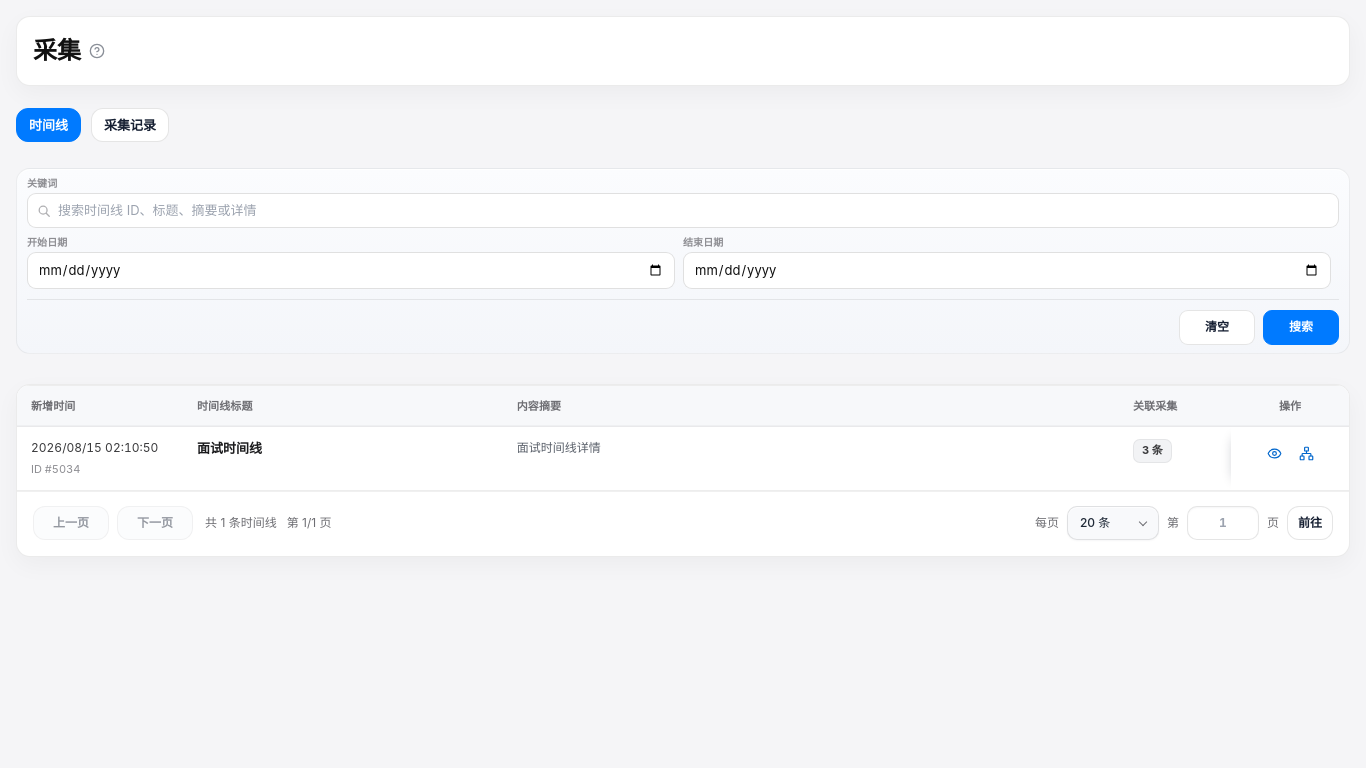
Test: 显式搜索交互 › RepositoryPanel 时间线详情补齐 keyTimestamps 未覆盖的关联采集
Expected: the table named "时间线表格" is shown, [17,386,1349,490]
Click the button named "查看时间线：面试时间线" at (1274, 453), box [1260,439,1288,467]
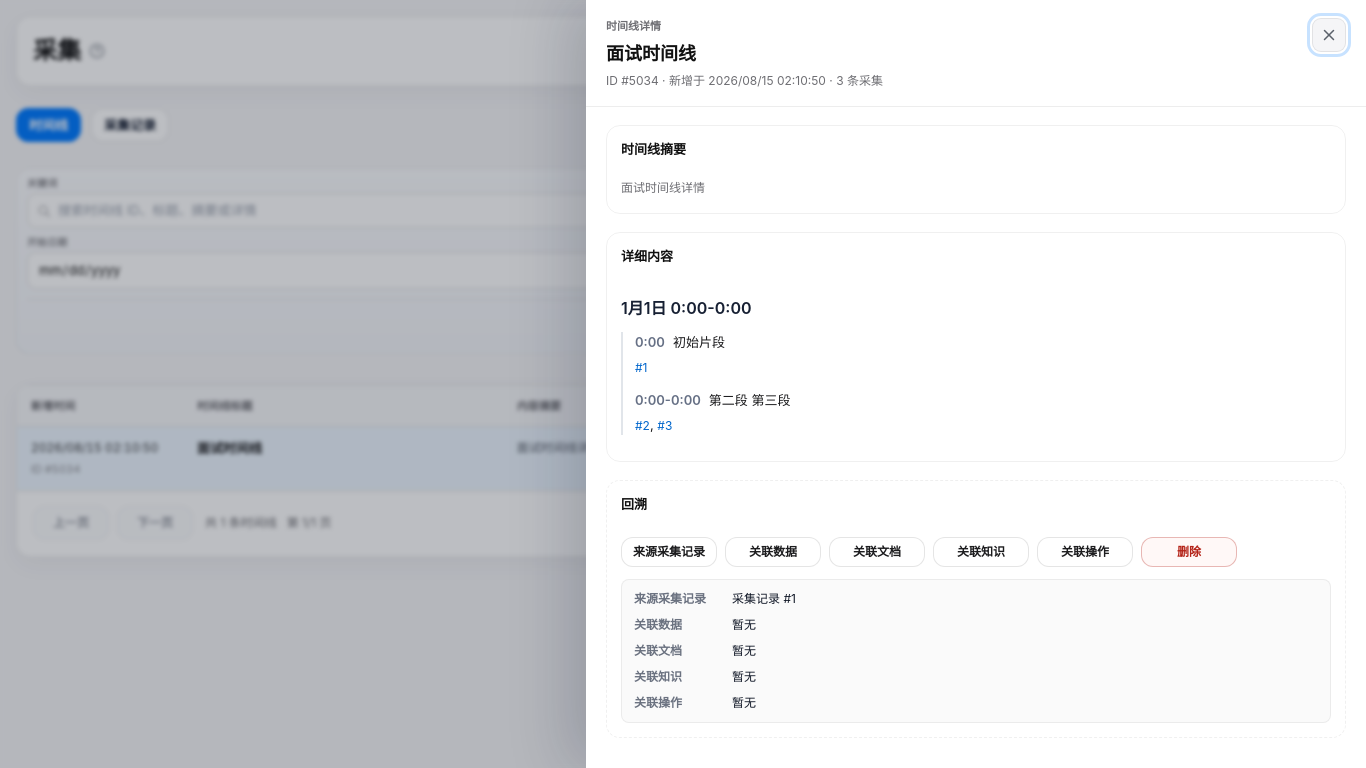
Expected: the link "#3" is shown, [657,418,672,433]
Expected: the link "#1" is shown, [635,360,648,375]
Expected: the link "#2" is shown, [635,418,650,433]
